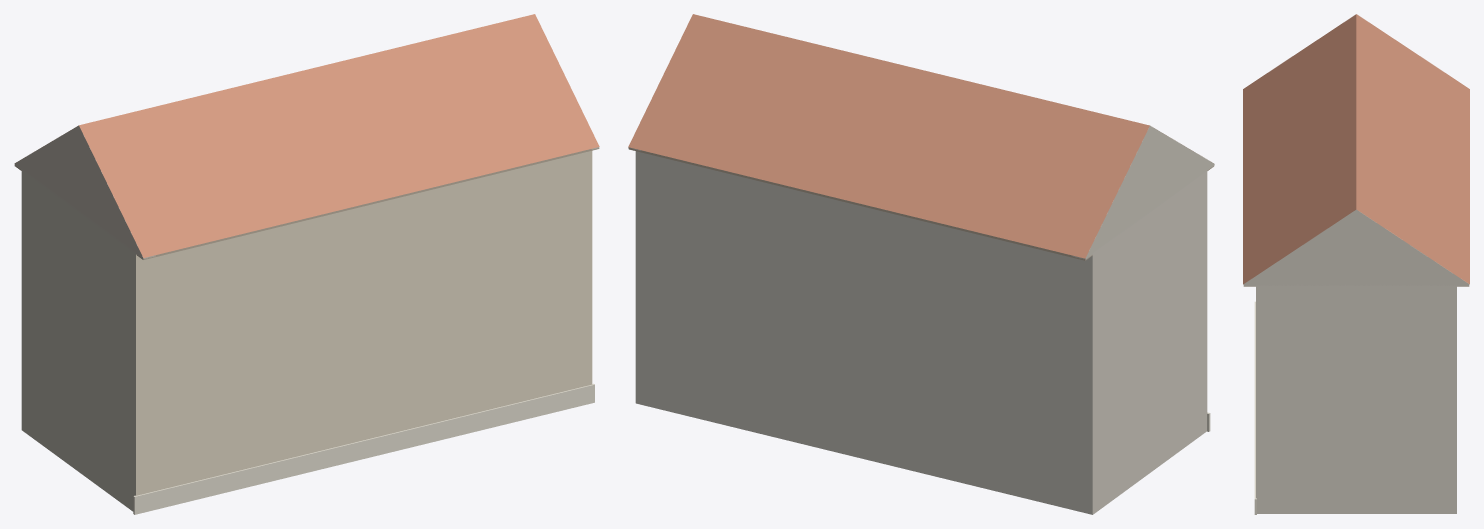
3 renders of one model, left to right at view 1: azimuth 30°, elevation 25°; view 2: azimuth 150°, elevation 25°; view 3: azimuth 270°, elevation 25°, orthographic. The views are drawn at different scales.
Visible parts, largest first — view 1: CP_742_Masonry, CP_742_Roof, CP_742_Cornice_plinth_0, CP_742_Gable_L_gable, CP_742_Roof_EaveClosure_0; view 2: CP_742_Masonry, CP_742_Roof, CP_742_Gable_L_gable, CP_742_Roof_EaveClosure_1; view 3: CP_742_Masonry, CP_742_Roof, CP_742_Gable_R_gable, CP_742_Cornice_plinth_0.
Part boxes in pixels (left/top/right/bottom): CP_742_Masonry: left=21, top=151, right=592, bottom=511; CP_742_Roof: left=16, top=14, right=599, bottom=257; CP_742_Cornice_plinth_0: left=133, top=383, right=594, bottom=514; CP_742_Gable_L_gable: left=14, top=125, right=155, bottom=258; CP_742_Roof_EaveClosure_0: left=136, top=148, right=599, bottom=259; CP_742_Masonry: left=635, top=151, right=1207, bottom=514; CP_742_Roof: left=628, top=14, right=1202, bottom=258; CP_742_Gable_L_gable: left=1072, top=126, right=1214, bottom=259; CP_742_Roof_EaveClosure_1: left=628, top=147, right=1092, bottom=260; CP_742_Masonry: left=1256, top=284, right=1456, bottom=513; CP_742_Roof: left=1243, top=14, right=1469, bottom=284; CP_742_Gable_R_gable: left=1243, top=209, right=1469, bottom=285; CP_742_Cornice_plinth_0: left=1254, top=301, right=1256, bottom=514.
Bounding box in the file's own units: 10.7 × 7.7 × 5.2.
